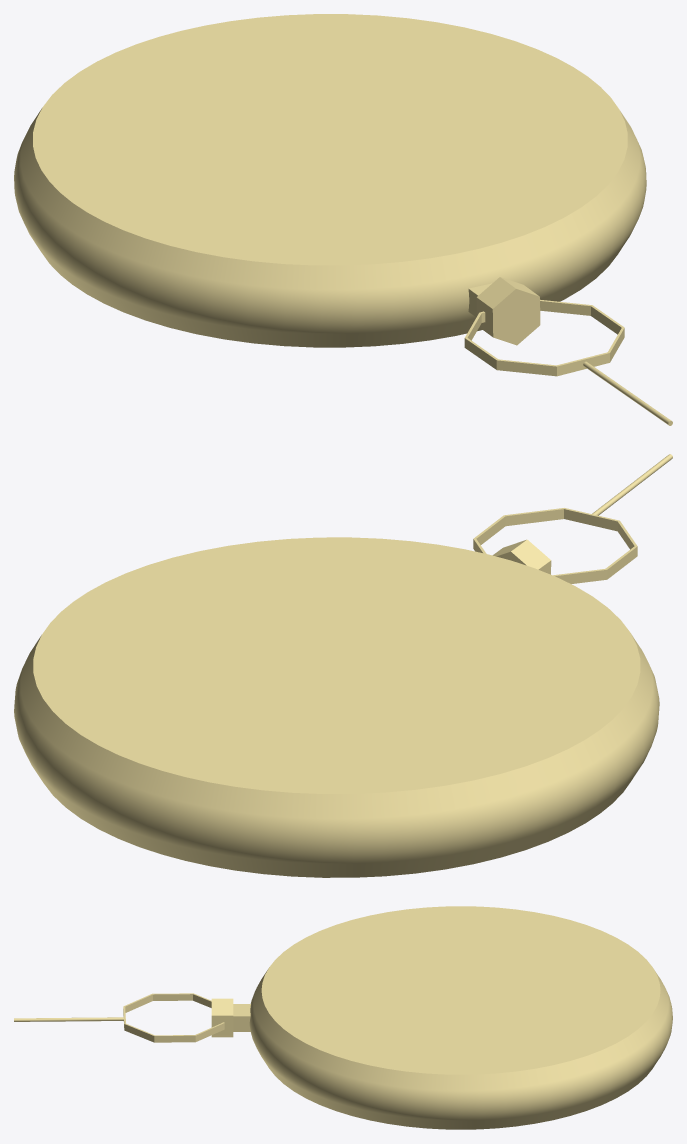
File: round_clock.fbx
3 views of the same model, one above another, from view 1: azimuth 30°, elevation 25°; view 2: azimuth 150°, elevation 25°; view 3: azimuth 270°, elevation 25° (orthographic). The views are drawn at different scales.
Visible parts, largest first — view 1: clock_inside, clock_head, clock_string; view 2: clock_inside, clock_head; view 3: clock_inside, clock_head, clock_string.
Boxes of the visible parts, x1,y1,x2,y2 form: clock_inside: (14, 14, 646, 347); clock_head: (464, 277, 624, 376); clock_string: (583, 361, 672, 425); clock_inside: (14, 537, 659, 877); clock_head: (473, 508, 637, 583); clock_inside: (249, 906, 672, 1129); clock_head: (123, 993, 250, 1042); clock_string: (14, 1017, 123, 1021).
Bounding box in the file's own units: 117 × 19.77 × 182.
